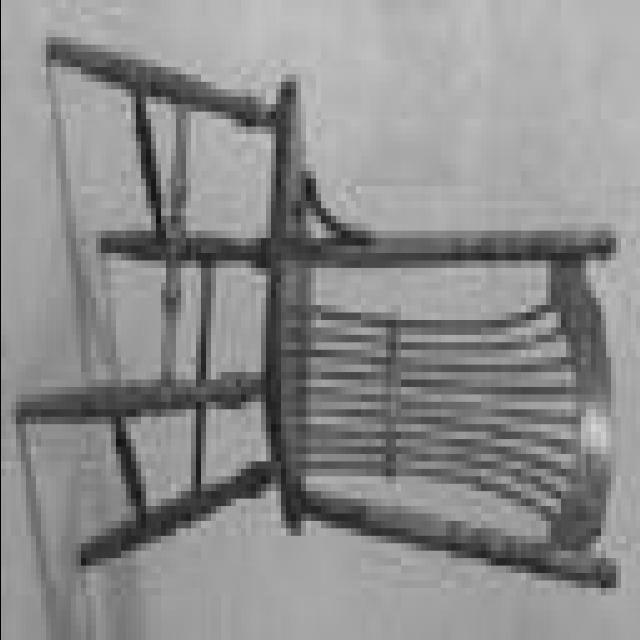chair: (17, 38, 621, 600)
